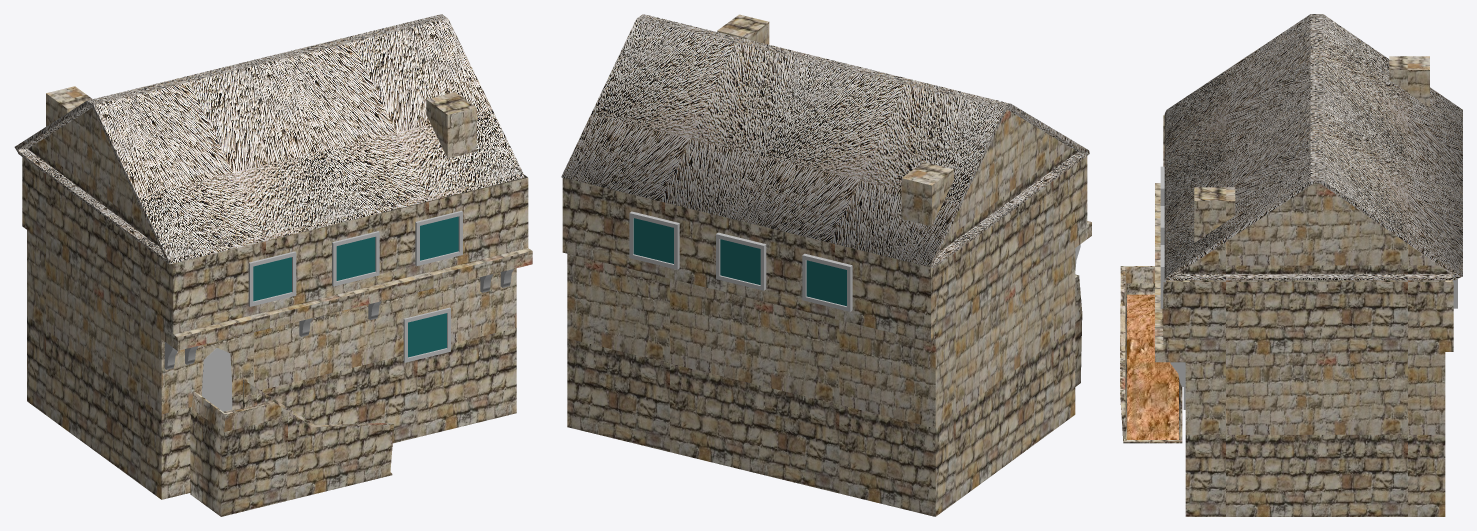
File: Maison2.FBX
The picture shows the model from 3 angles, left to right: view 1: azimuth 30°, elevation 25°; view 2: azimuth 150°, elevation 25°; view 3: azimuth 270°, elevation 25°; orthographic projection. The views are drawn at different scales.
Parts seen in each view (by area): view 1: ArcaneShop; view 2: ArcaneShop; view 3: ArcaneShop.
Boxes of the visible parts, left/top/right/bottom form: ArcaneShop: left=14, top=14, right=532, bottom=516; ArcaneShop: left=561, top=14, right=1091, bottom=516; ArcaneShop: left=1120, top=14, right=1462, bottom=516.
Size of the model in its own units: 557 by 517 by 479.
